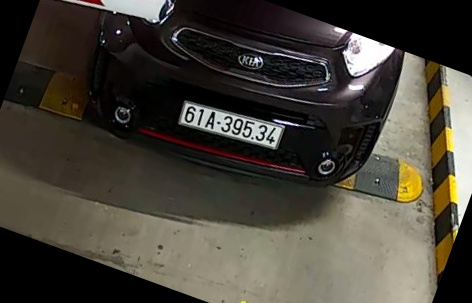plate: (174, 93, 288, 160)
